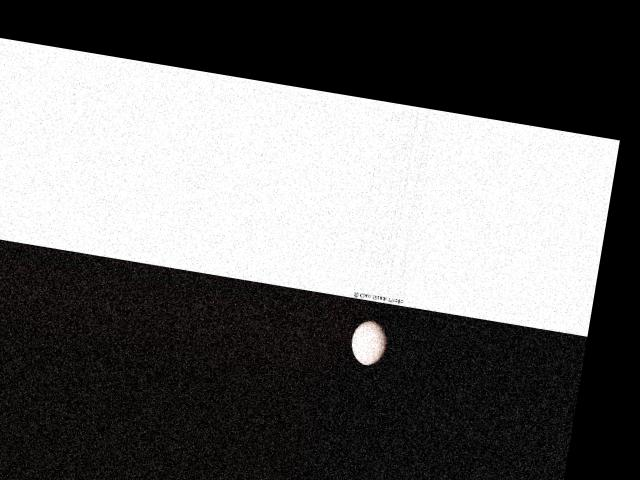egg: (349, 317, 390, 367)
